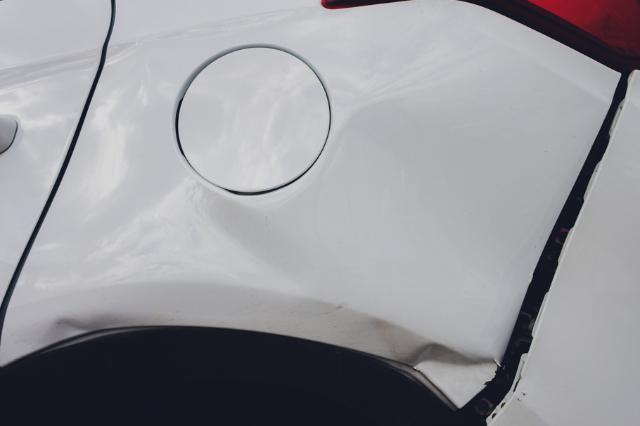Fender: (46, 25, 640, 424)
